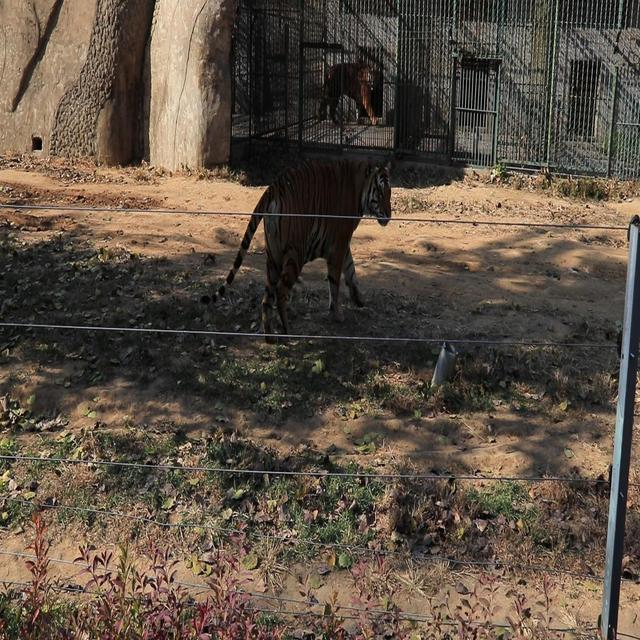tiger: (223, 155, 393, 344), (315, 59, 383, 126)
